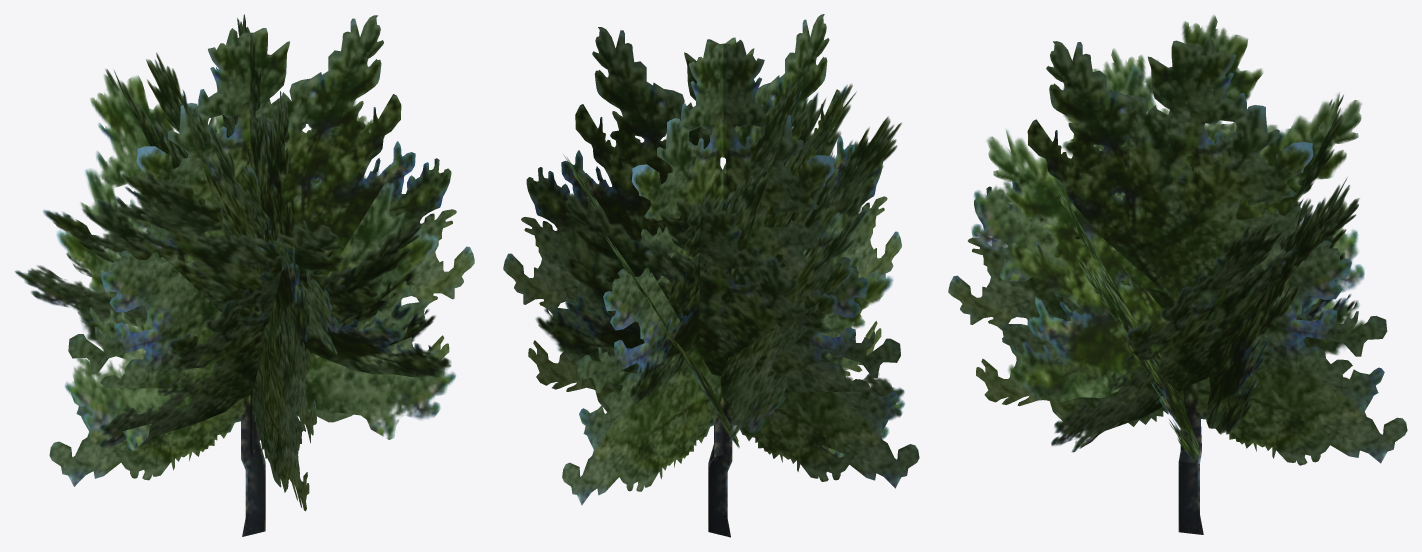
File: vector-tree-2.glb
3 views of the same model, side by side, from view 1: azimuth 30°, elevation 25°; view 2: azimuth 150°, elevation 25°; view 3: azimuth 270°, elevation 25° (orthographic). The views are drawn at different scales.
Visible parts, largest first — view 1: a1 (×5), コンポーネント; view 2: コンポーネント, a1 (×5); view 3: コンポーネント, a1 (×5).
Boxes of the visible parts, x1,y1,x2,y2 form: a1 (×5): [15, 52, 456, 451]; コンポーネント: [49, 14, 474, 536]; コンポーネント: [503, 14, 919, 537]; a1 (×5): [535, 76, 904, 457]; コンポーネント: [948, 37, 1407, 534]; a1 (×5): [971, 15, 1364, 462].
Bounding box in the file's own units: 7.86 × 9.04 × 7.59.
Materials: 2 (2 with a texture image).
